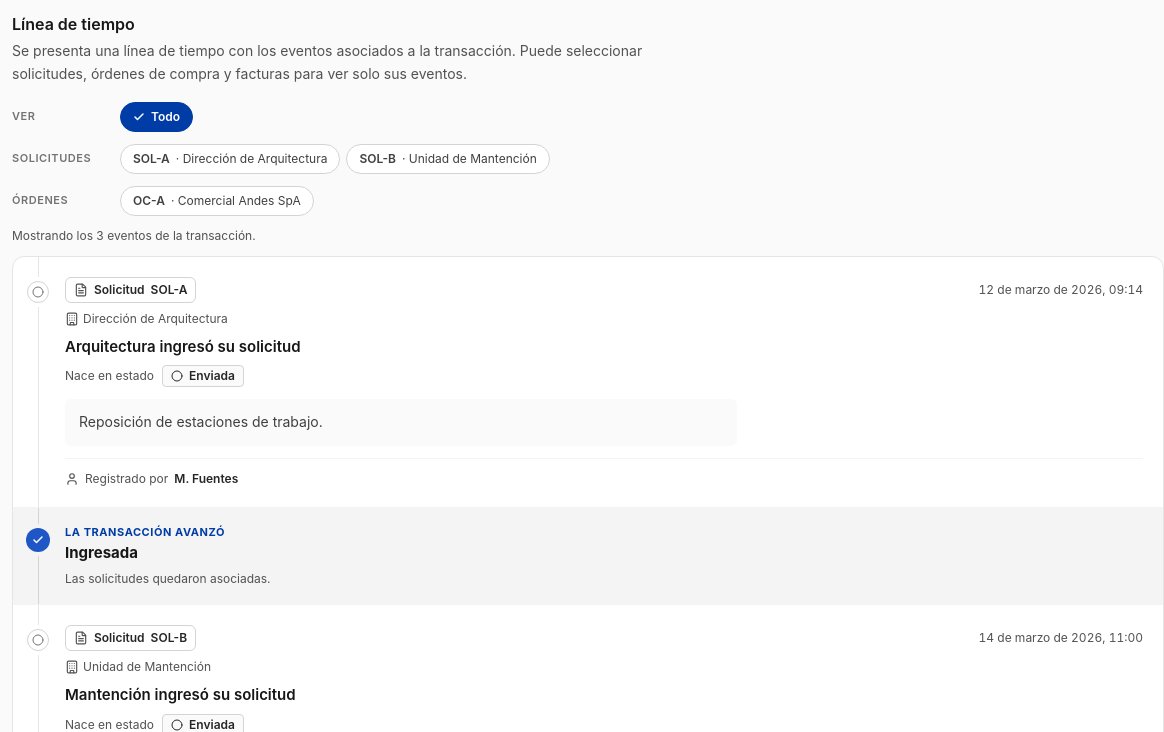
Test case: LineaDeTiempo › deja solo los eventos de la entidad elegida y conserva los hitos
Click the button "SOL-A · Dirección de Arquitectura" at x=230, y=158, box [120,144,340,174]
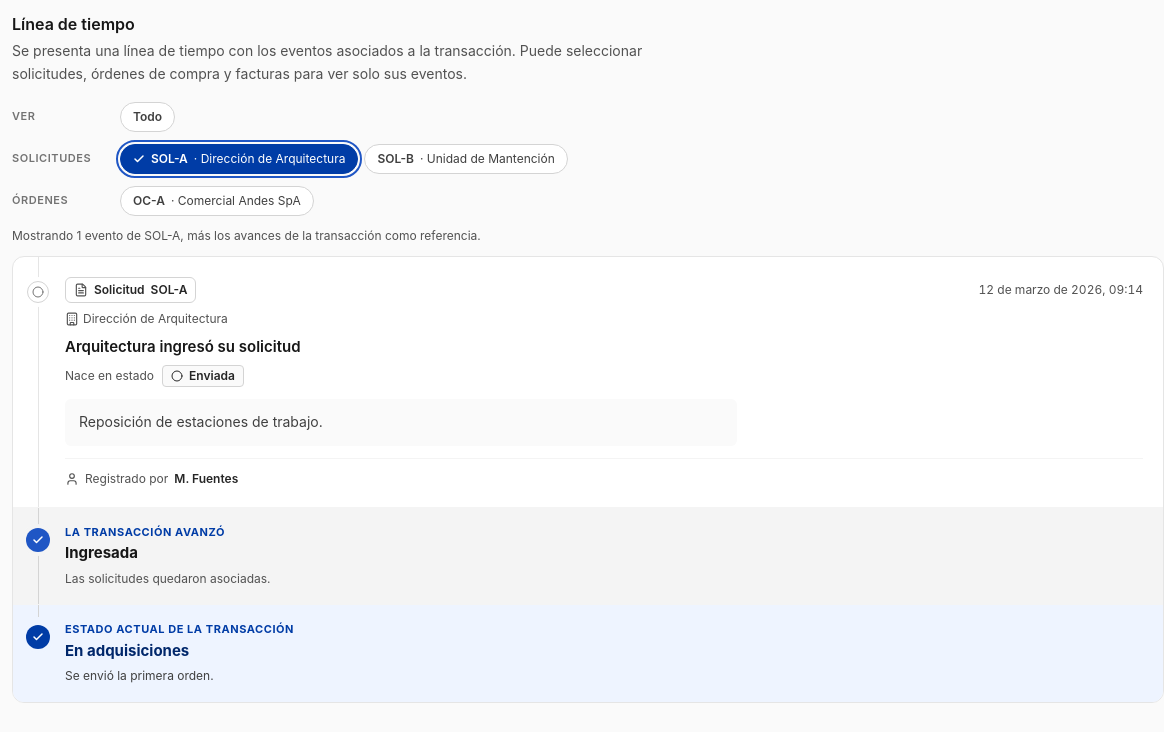
Check: the heading "Arquitectura ingresó su solicitud" is shown, box [65,336,300,356]
Check: the heading "Mantención ingresó su solicitud" is gone
